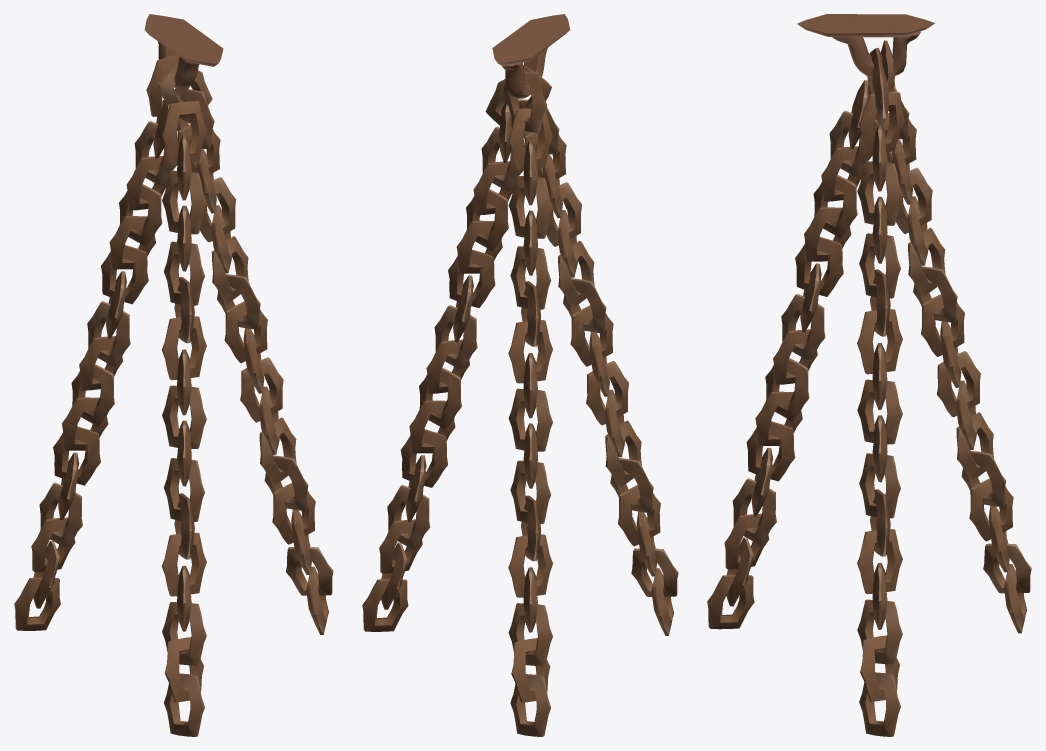
The model's file is SM_Potion_Props_Chain_Pot_01.fbx.
The picture shows the model from 3 angles, left to right: view 1: azimuth 30°, elevation 25°; view 2: azimuth 150°, elevation 25°; view 3: azimuth 270°, elevation 25°; orthographic projection. The views are drawn at different scales.
Visible parts, largest first — view 1: SM_Potion_Props_Chain_Pot_01_LOD0; view 2: SM_Potion_Props_Chain_Pot_01_LOD0; view 3: SM_Potion_Props_Chain_Pot_01_LOD0.
Boxes of the visible parts, x1,y1,x2,y2 form: SM_Potion_Props_Chain_Pot_01_LOD0: (14,14,333,736); SM_Potion_Props_Chain_Pot_01_LOD0: (362,14,678,736); SM_Potion_Props_Chain_Pot_01_LOD0: (707,14,1031,736).
Size of what is drawn, in the model's own units: 95.81 by 230 by 106.
